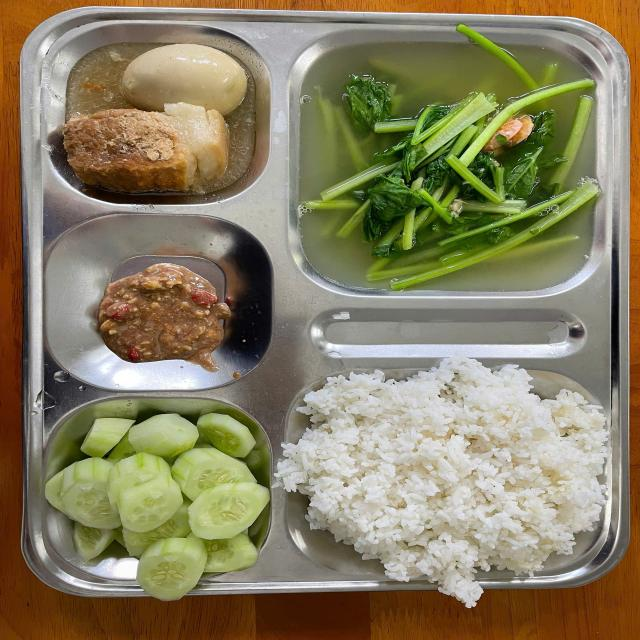canhrau: (299, 41, 599, 291)
dualeo: (51, 412, 271, 582)
salad: (294, 372, 609, 573)
thitluoc: (57, 40, 250, 196)
